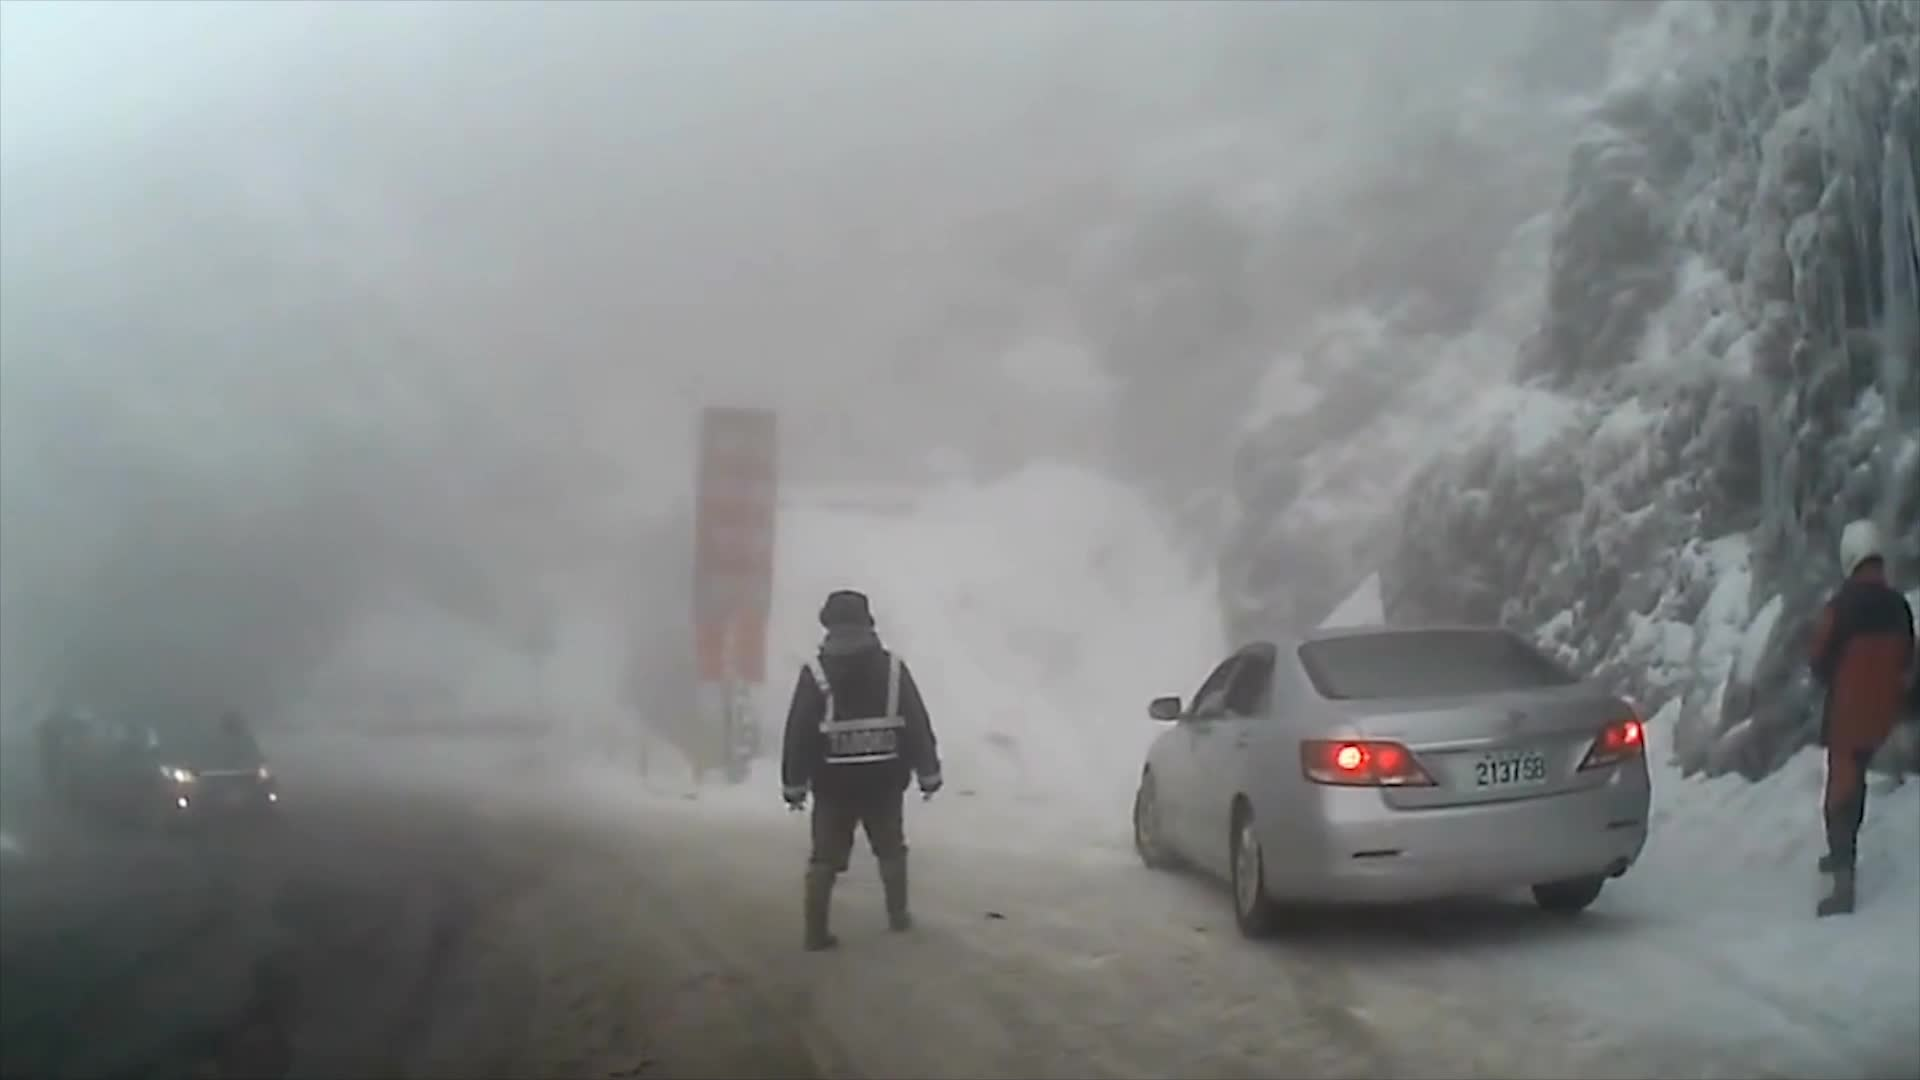pedestrian: (786, 589, 941, 953), (1805, 520, 1920, 920)
vehicle: (1133, 624, 1654, 939), (55, 699, 277, 831)
